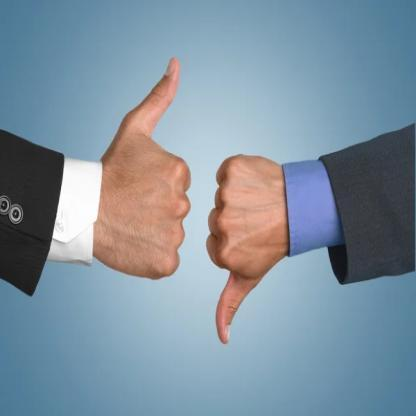thumb_down: (207, 149, 285, 347)
thumb_up: (100, 53, 196, 288)
